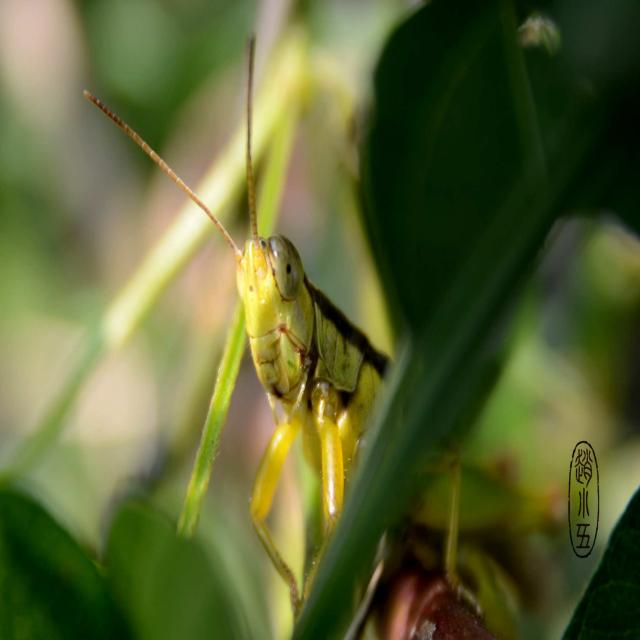ZhaMeng: (83, 57, 406, 509)
